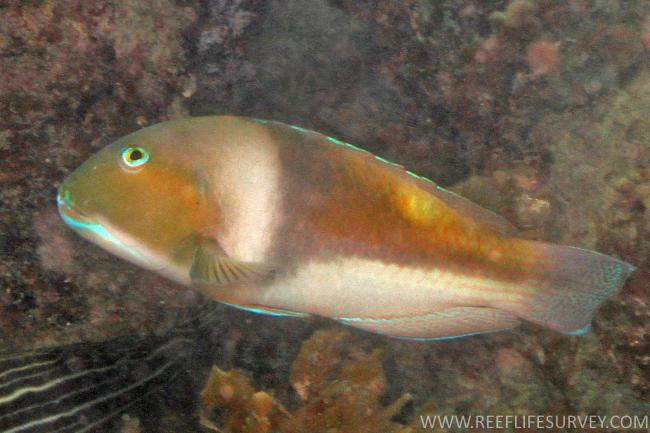fish: (57, 116, 637, 341)
